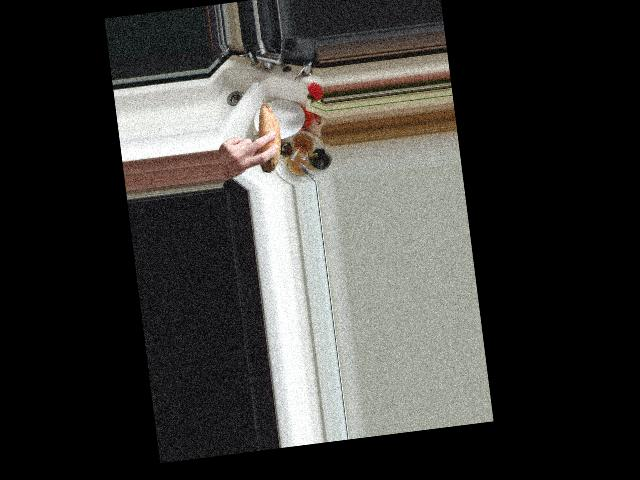sweet_potato: (248, 95, 284, 176)
